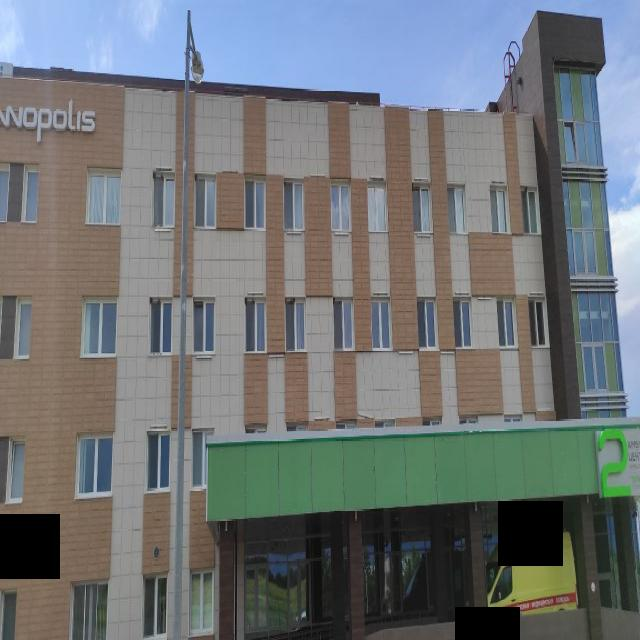Building: (0, 15, 640, 640)
